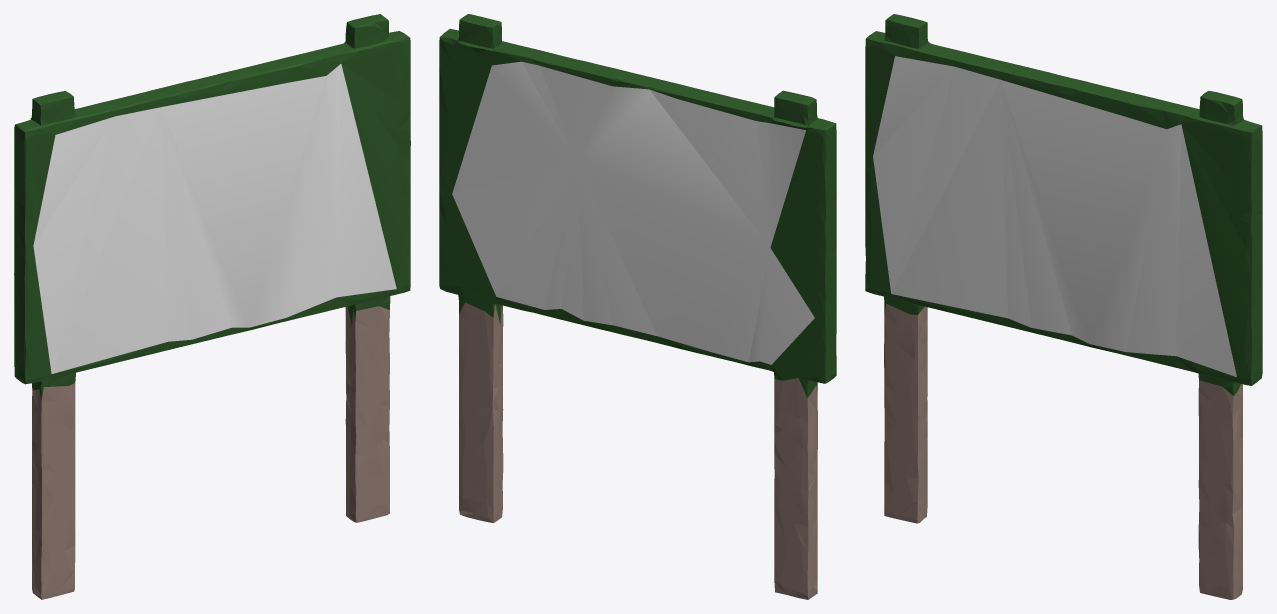
The model's file is PROP_06_game.glb.
3 views of the same model, side by side, from view 1: azimuth 30°, elevation 25°; view 2: azimuth 150°, elevation 25°; view 3: azimuth 330°, elevation 25° (orthographic).
Visible parts, largest first — view 1: PROP_06; view 2: PROP_06; view 3: PROP_06.
Boxes of the visible parts, left/top/right/bottom form: PROP_06: left=14, top=14, right=410, bottom=599; PROP_06: left=439, top=14, right=836, bottom=599; PROP_06: left=865, top=14, right=1262, bottom=599.
Size of the model in its own units: 1.63 by 2 by 0.1006.
